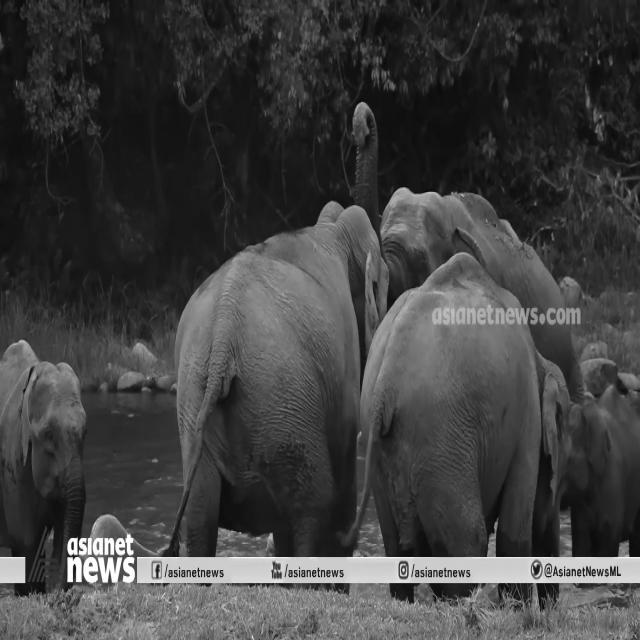ELEPHANT: (169, 208, 375, 555), (4, 341, 99, 534)
